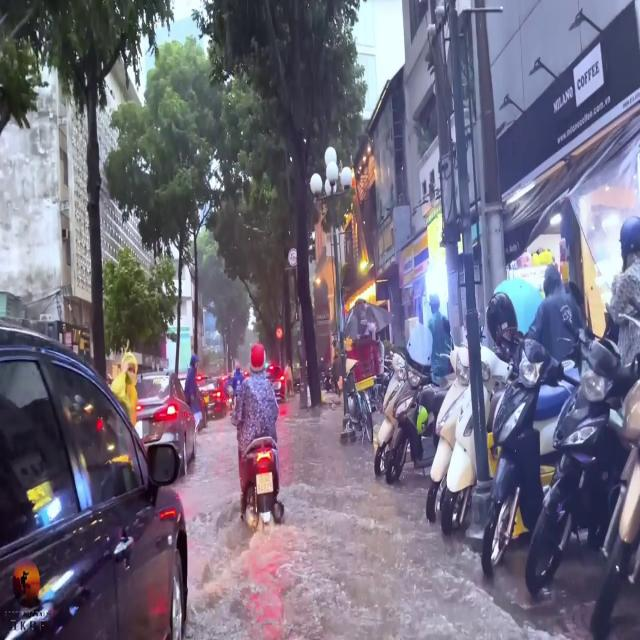bien_trang: (255, 473, 275, 494)
